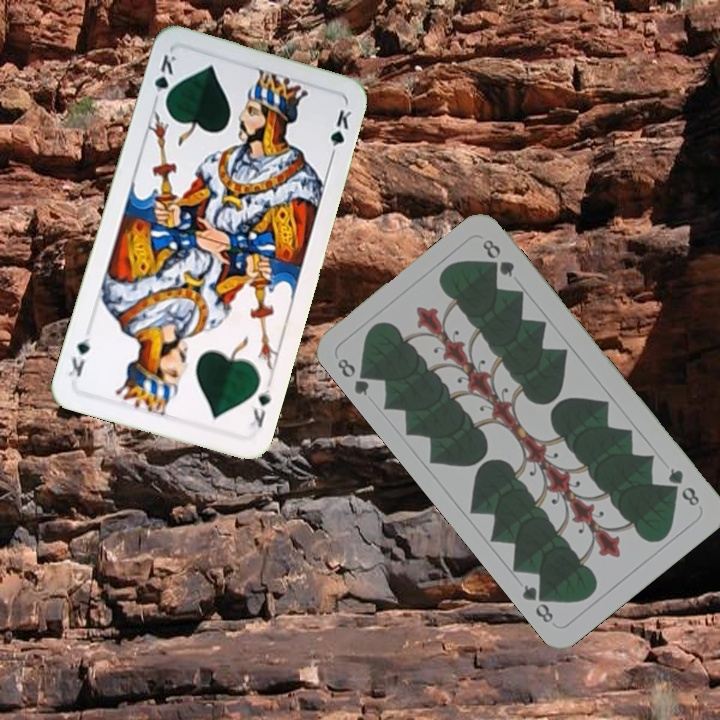G8: (333, 354, 376, 398), (663, 463, 703, 509)
GK: (149, 51, 180, 108), (243, 382, 274, 433)
